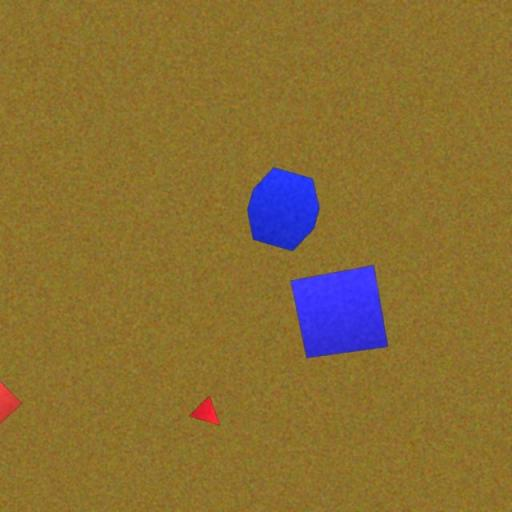BLUE_SQUARE: (290, 264, 389, 359)
RED_SQUARE: (0, 370, 23, 432)
